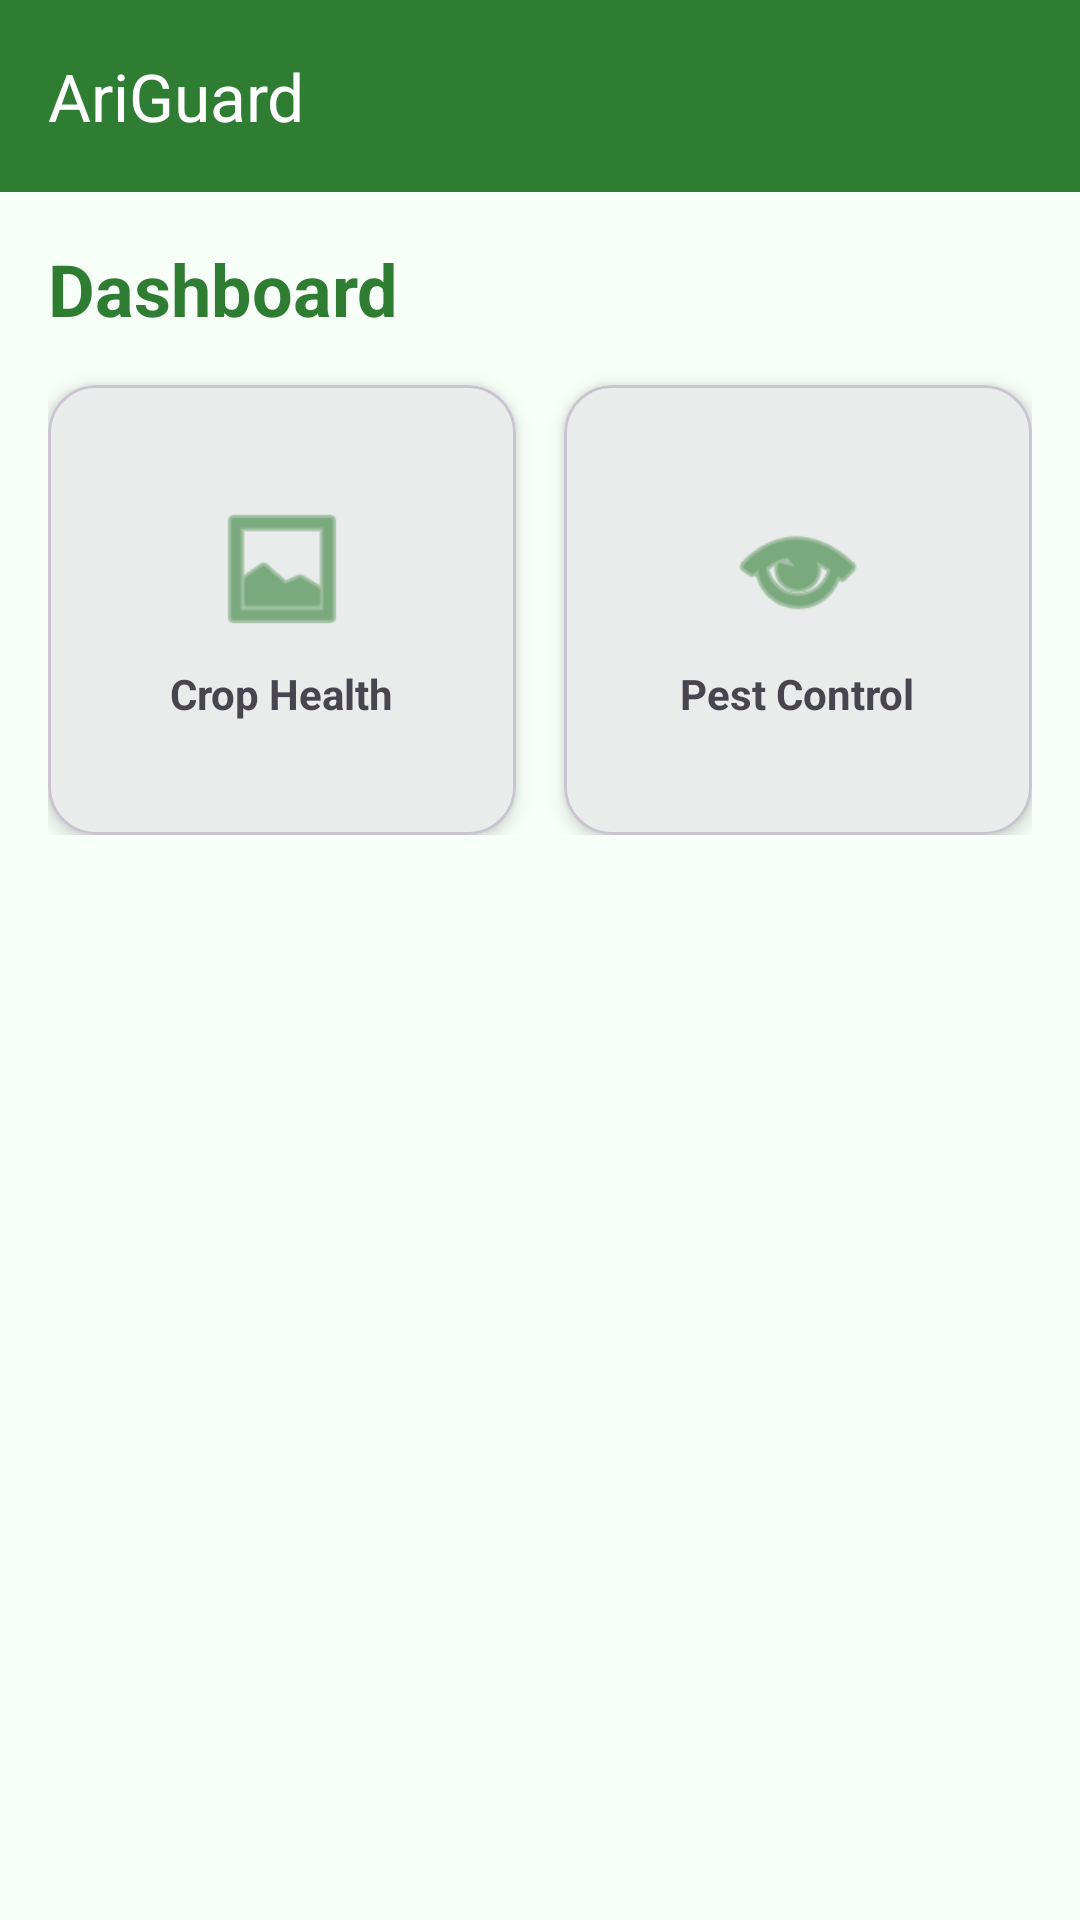

Icons on this 1080*1920 Android screen, each with the point to tap as point (x, y):
gallery: point (282, 569)
view: point (798, 573)
